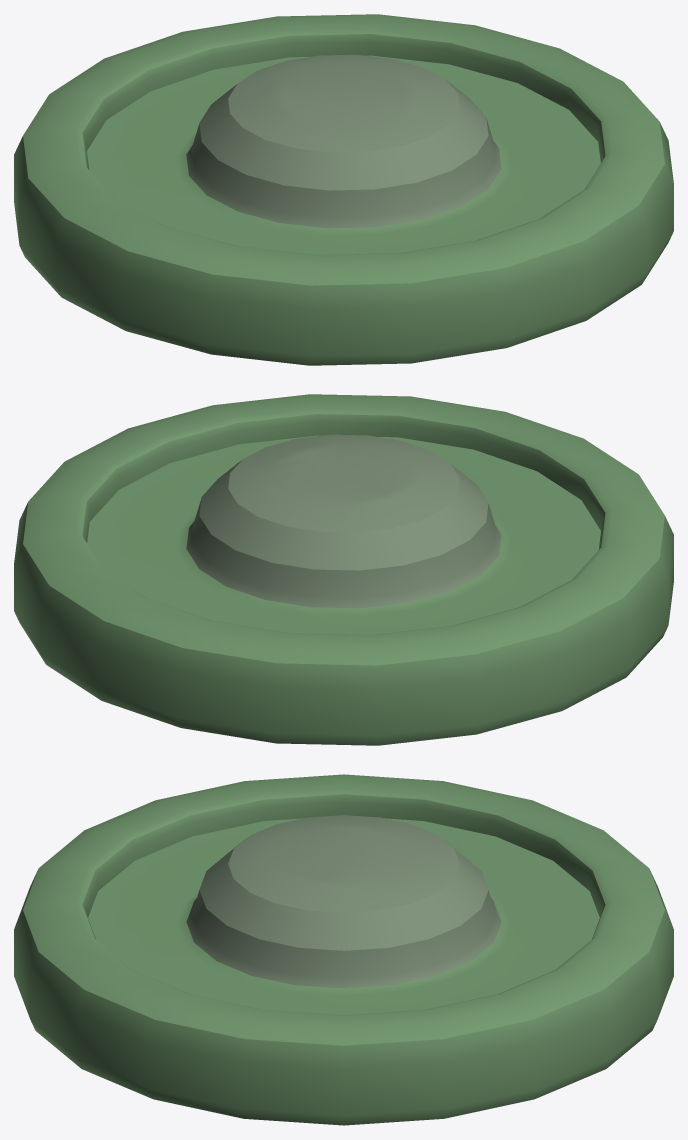
File: LandMine.fbx
3 views of the same model, one above another, from view 1: azimuth 30°, elevation 25°; view 2: azimuth 150°, elevation 25°; view 3: azimuth 270°, elevation 25° (orthographic).
Visible parts, largest first — view 1: LandMine; view 2: LandMine; view 3: LandMine.
Boxes of the visible parts, x1,y1,x2,y2 form: LandMine: (14, 14, 673, 365); LandMine: (14, 394, 673, 745); LandMine: (14, 774, 673, 1125).
Size of the model in its own units: 2 by 0.4643 by 2.
